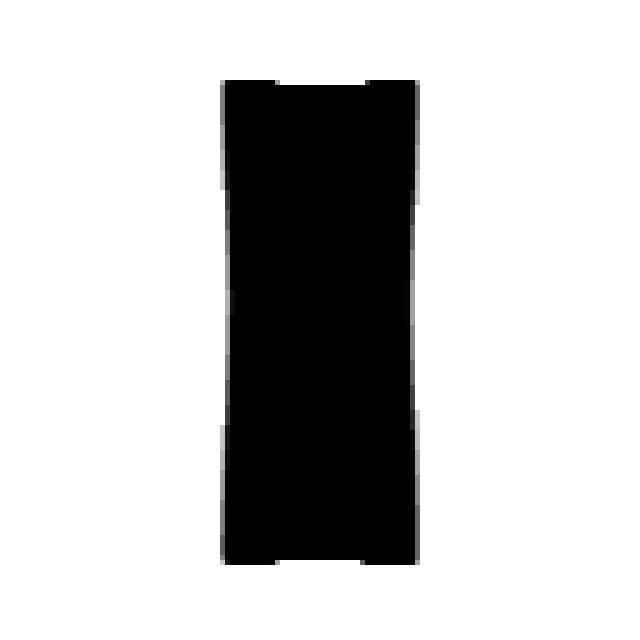I: (220, 80, 420, 570)
